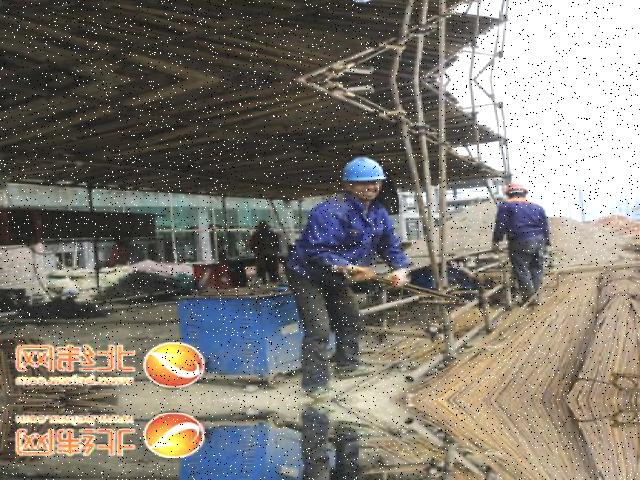Helmet: (341, 154, 392, 191), (499, 178, 536, 200)
